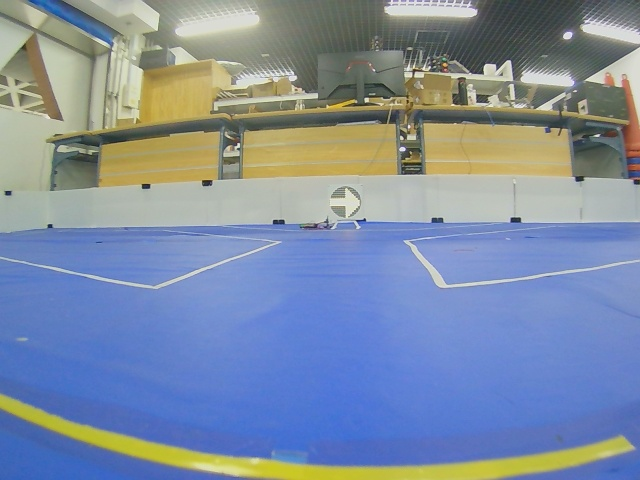right_yellow: (330, 186, 361, 218)
